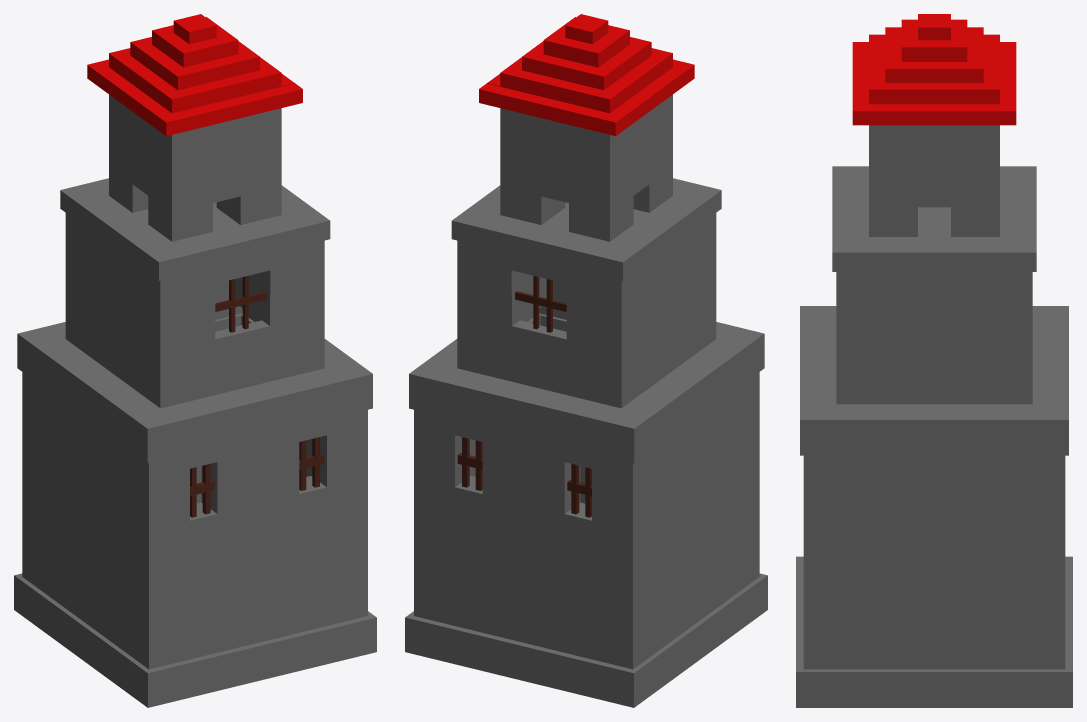
File: Tower blue.FBX
3 renders of one model, left to right at view 1: azimuth 30°, elevation 25°; view 2: azimuth 150°, elevation 25°; view 3: azimuth 270°, elevation 25°, orthographic. The views are drawn at different scales.
Parts seen in each view (by area): view 1: Tour; view 2: Tour; view 3: Tour.
Boxes of the visible parts, <box> form: Tour: <box>14,14,376,707</box>; Tour: <box>405,14,767,707</box>; Tour: <box>796,14,1072,707</box>.
Bounding box in the file's own units: 109 × 277 × 111.
